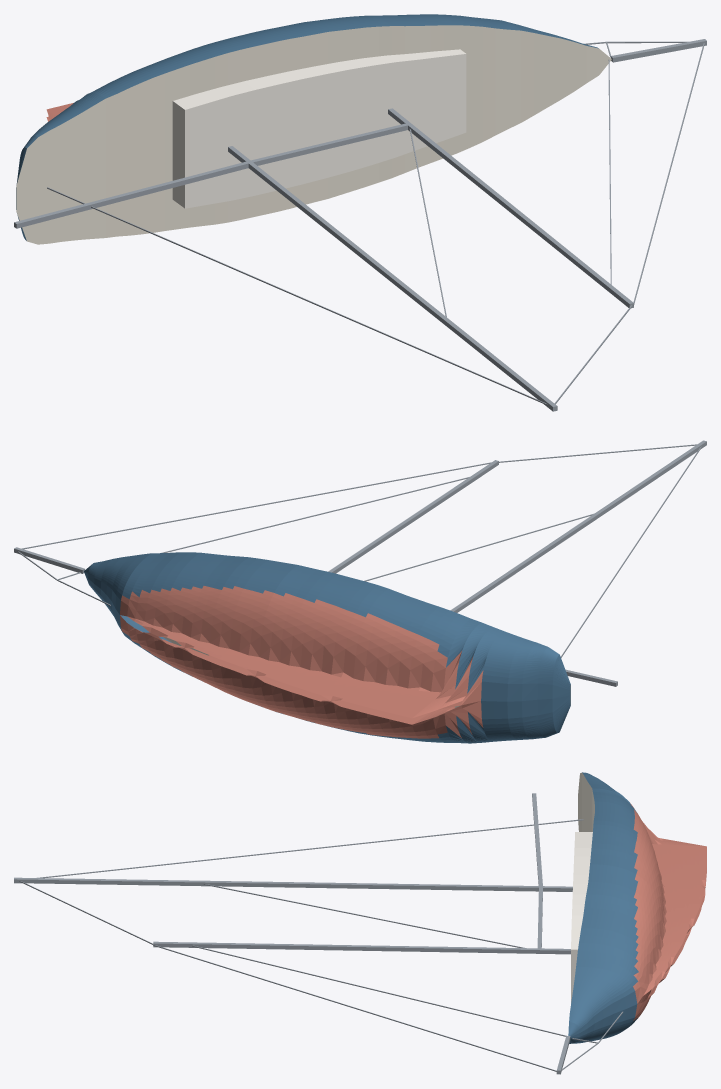
File: cheoy-lee-clipper-48-schooner-lines.glb
3 views of the same model, one above another, from view 1: azimuth 30°, elevation 25°; view 2: azimuth 150°, elevation 25°; view 3: azimuth 270°, elevation 25° (orthographic). The views are drawn at different scales.
Visible parts, largest first — view 1: Cheoy Lee Clipper 48 Schooner; view 2: Cheoy Lee Clipper 48 Schooner; view 3: Cheoy Lee Clipper 48 Schooner.
Boxes of the visible parts, x1,y1,x2,y2 form: Cheoy Lee Clipper 48 Schooner: [14, 14, 706, 411]; Cheoy Lee Clipper 48 Schooner: [14, 440, 706, 743]; Cheoy Lee Clipper 48 Schooner: [14, 772, 706, 1074].
Size of the model in its own units: 2.39 by 0.5522 by 2.53.
